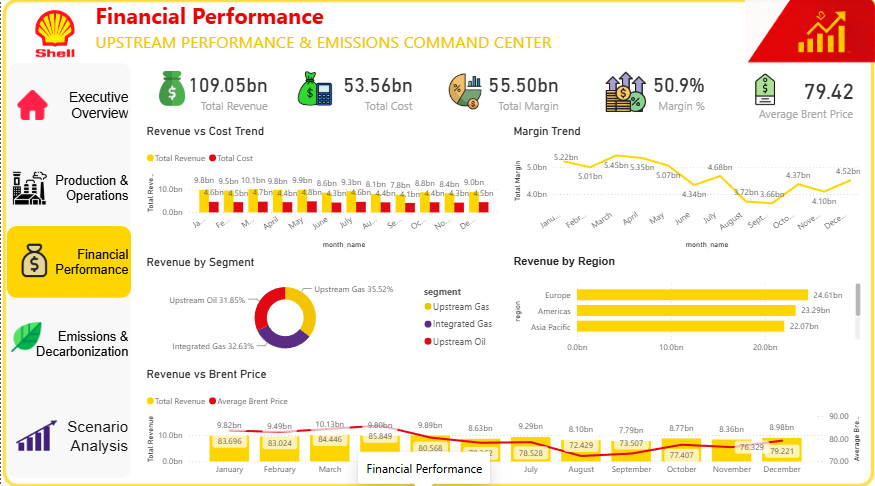

The dashboard page shown, as its layout file describes it:
{"tool":"powerbi","page":{"name":"Financial Performance","canvas":[1280,720],"ordinal":2},"visuals":[{"type":"shape","box":[0,0,1280.5,720],"z":0},{"type":"shape","box":[10.2,96.6,180,607.3],"z":1000},{"type":"image","box":[24.9,0,108.3,106.8],"z":2000},{"type":"actionButton","box":[0,106.8,190.2,103.9],"z":3000},{"type":"actionButton","box":[0,226.8,190.2,105.4],"z":4000},{"type":"actionButton","box":[1.5,335.1,188.8,105.4],"z":5000},{"type":"actionButton","box":[0,455.1,190.2,105.4],"z":6000},{"type":"actionButton","box":[0,586.8,190.2,111.2],"z":7000},{"type":"image","box":[19,136.1,54.1,43.9],"z":8000},{"type":"image","box":[8.8,253.2,64.4,52.7],"z":9000},{"type":"image","box":[24.9,360,48.3,51.2],"z":10000},{"type":"image","box":[0,475.6,73.2,43.9],"z":11000},{"type":"image","box":[19,619,65.9,45.4],"z":12000},{"type":"image","box":[1088.8,0,191.7,96.6],"z":13000},{"type":"textbox","box":[133.2,0,971.7,96.6],"z":14000},{"type":"advanceCardE03760C5AB684758B56AA29F9E6C257B","fields":{"mainMeasure":["All_Measures.Total Revenue"]},"box":[207.8,96.6,197.6,83.4],"z":15000},{"type":"clusteredColumnChart","title":"Revenue vs Cost Trend","fields":{"Category":["dim_date.month_name"],"Y":["All_Measures.Total Revenue","All_Measures.Total Cost"]},"box":[207.8,185.9,525.4,187.3],"z":16000},{"type":"lineChart","title":"Margin Trend","fields":{"Category":["dim_date.month_name"],"Y":["All_Measures.Total Margin"]},"box":[744.9,185.9,518,187.3],"z":17000},{"type":"donutChart","title":"Revenue by Segment","fields":{"Category":["fact_financial.segment"],"Y":["All_Measures.Total Revenue"]},"box":[207.8,377.6,525.4,153.7],"z":18000},{"type":"advanceCardE03760C5AB684758B56AA29F9E6C257B","fields":{"mainMeasure":["All_Measures.Total Cost"]},"box":[420,96.6,197.6,83.4],"z":19000},{"type":"advanceCardE03760C5AB684758B56AA29F9E6C257B","fields":{"mainMeasure":["All_Measures.Total Margin"]},"box":[632.2,96.6,199,83.4],"z":20000},{"type":"advanceCardE03760C5AB684758B56AA29F9E6C257B","fields":{"mainMeasure":["All_Measures.Margin %"]},"box":[845.9,96.6,199,83.4],"z":21000},{"type":"advanceCardE03760C5AB684758B56AA29F9E6C257B","fields":{"mainMeasure":["All_Measures.Average Brent Price"]},"box":[1059.5,96.6,199,83.4],"z":22000},{"type":"clusteredBarChart","title":"Revenue by Region","fields":{"Category":["dim_asset.region"],"Y":["All_Measures.Total Revenue"]},"box":[744.9,377.6,518.2,152.7],"z":23000},{"type":"lineClusteredColumnComboChart","title":"Revenue vs Brent Price","fields":{"Category":["dim_date.month_name"],"Y":["All_Measures.Total Revenue"],"Y2":["All_Measures.Average Brent Price"]},"box":[207.8,541.5,1055.1,168.3],"z":24000}]}

Visuals, with their boxes in screenshot pixels (x1, y1, x2, y2), scaled from the page's 1280x720 canvas onto the 875x486 screenshot:
shape: 0:0:874:485
shape: 7:65:130:475
image: 17:0:91:72
actionButton: 0:72:130:142
actionButton: 0:153:130:224
actionButton: 1:226:130:297
actionButton: 0:307:130:378
actionButton: 0:396:130:471
image: 13:92:50:122
image: 6:171:50:206
image: 17:243:50:278
image: 0:321:50:351
image: 13:418:58:448
image: 744:0:874:65
textbox: 91:0:755:65
advanceCardE03760C5AB684758B56AA29F9E6C257B - All_Measures.Total Revenue: 142:65:277:122
"Revenue vs Cost Trend" clusteredColumnChart: 142:125:501:252
"Margin Trend" lineChart: 509:125:863:252
"Revenue by Segment" donutChart: 142:255:501:359
advanceCardE03760C5AB684758B56AA29F9E6C257B - All_Measures.Total Cost: 287:65:422:122
advanceCardE03760C5AB684758B56AA29F9E6C257B - All_Measures.Total Margin: 432:65:568:122
advanceCardE03760C5AB684758B56AA29F9E6C257B - All_Measures.Margin %: 578:65:714:122
advanceCardE03760C5AB684758B56AA29F9E6C257B - All_Measures.Average Brent Price: 724:65:860:122
"Revenue by Region" clusteredBarChart: 509:255:863:358
"Revenue vs Brent Price" lineClusteredColumnComboChart: 142:366:863:479
